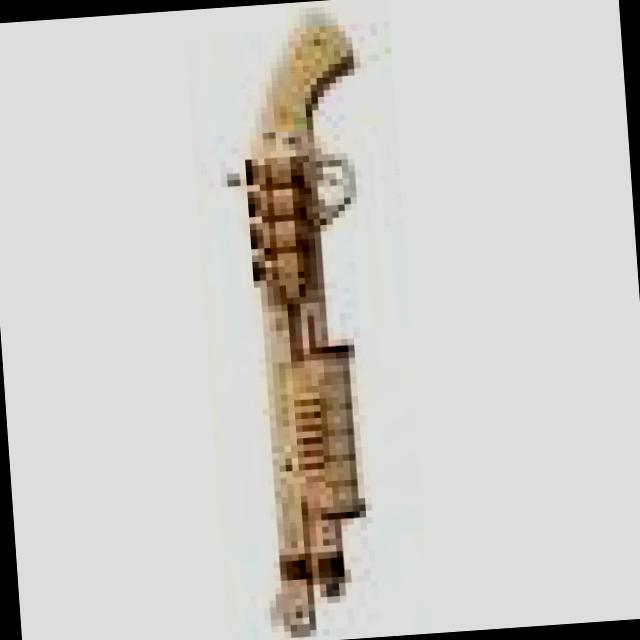long weapon: (192, 0, 427, 633)
